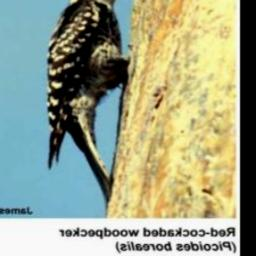Woodpecker: (40, 0, 154, 204)
